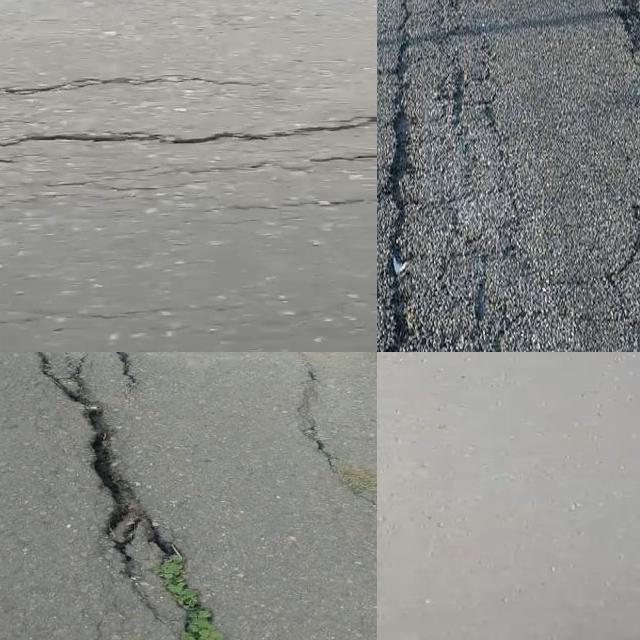Melintang: (0, 97, 377, 159), (0, 58, 270, 107)
Memanjang: (41, 352, 235, 640), (377, 0, 421, 352)
